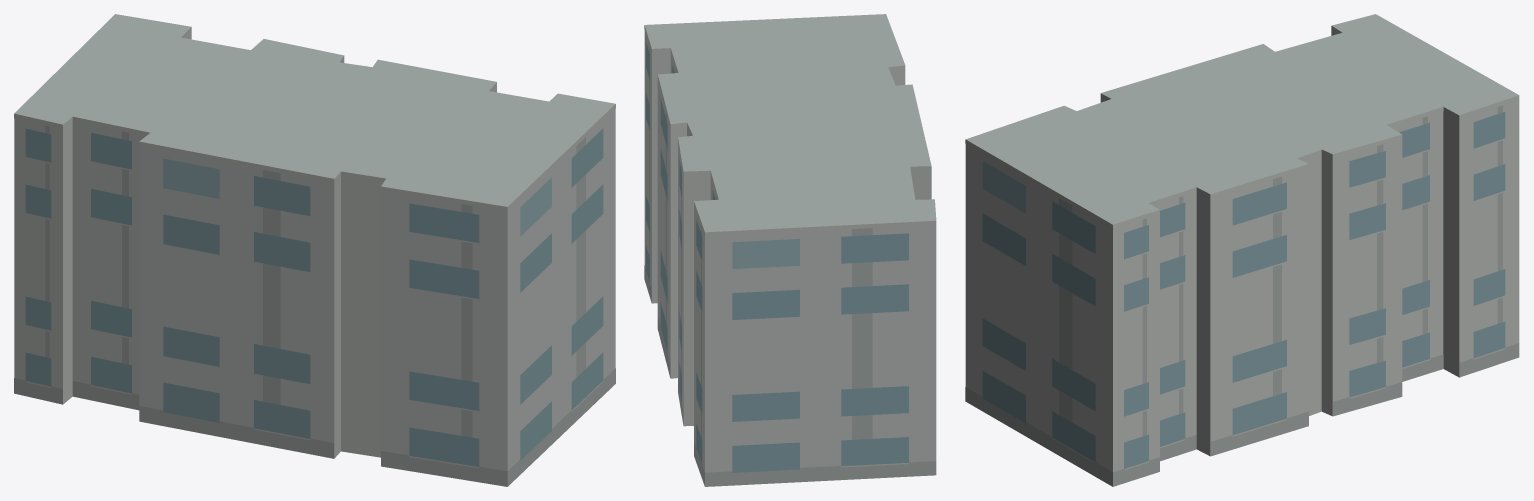
Rendered from survey-upis-32797720.glb.
3 views of the same model, side by side, from view 1: azimuth 30°, elevation 25°; view 2: azimuth 150°, elevation 25°; view 3: azimuth 270°, elevation 25° (orthographic). The views are drawn at different scales.
Parts seen in each view (by area): view 1: survey-upis-32797720.tmp; view 2: survey-upis-32797720.tmp; view 3: survey-upis-32797720.tmp.
Boxes of the visible parts, x1,y1,x2,y2 form: survey-upis-32797720.tmp: (14, 14, 615, 486); survey-upis-32797720.tmp: (644, 14, 936, 486); survey-upis-32797720.tmp: (965, 14, 1519, 486).
Bounding box in the file's own units: 25.36 × 14.7 × 28.16.
